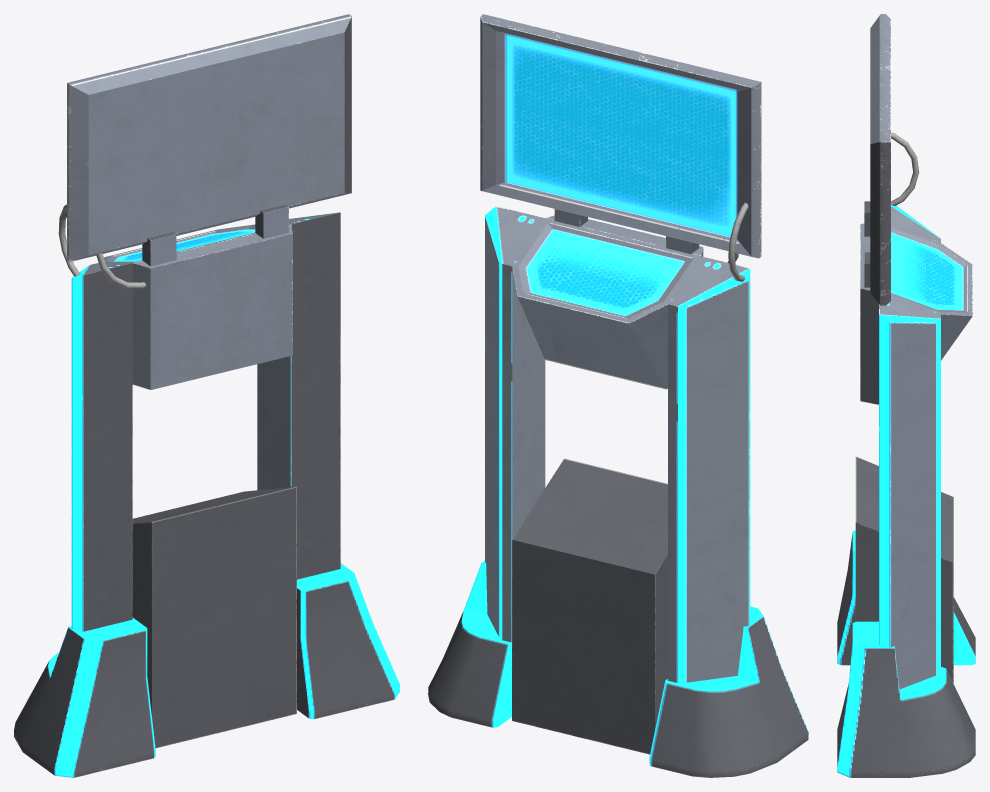
The picture shows the model from 3 angles, left to right: view 1: azimuth 30°, elevation 25°; view 2: azimuth 150°, elevation 25°; view 3: azimuth 270°, elevation 25°; orthographic projection. The views are drawn at different scales.
Visible parts, largest first — view 1: Terminal1; view 2: Terminal1; view 3: Terminal1.
Boxes of the visible parts, <box> form: Terminal1: <box>14,14,399,777</box>; Terminal1: <box>428,14,808,777</box>; Terminal1: <box>837,14,975,777</box>.
Size of the model in its own units: 84.99 by 158 by 31.84.
1 material, 1 textured.
